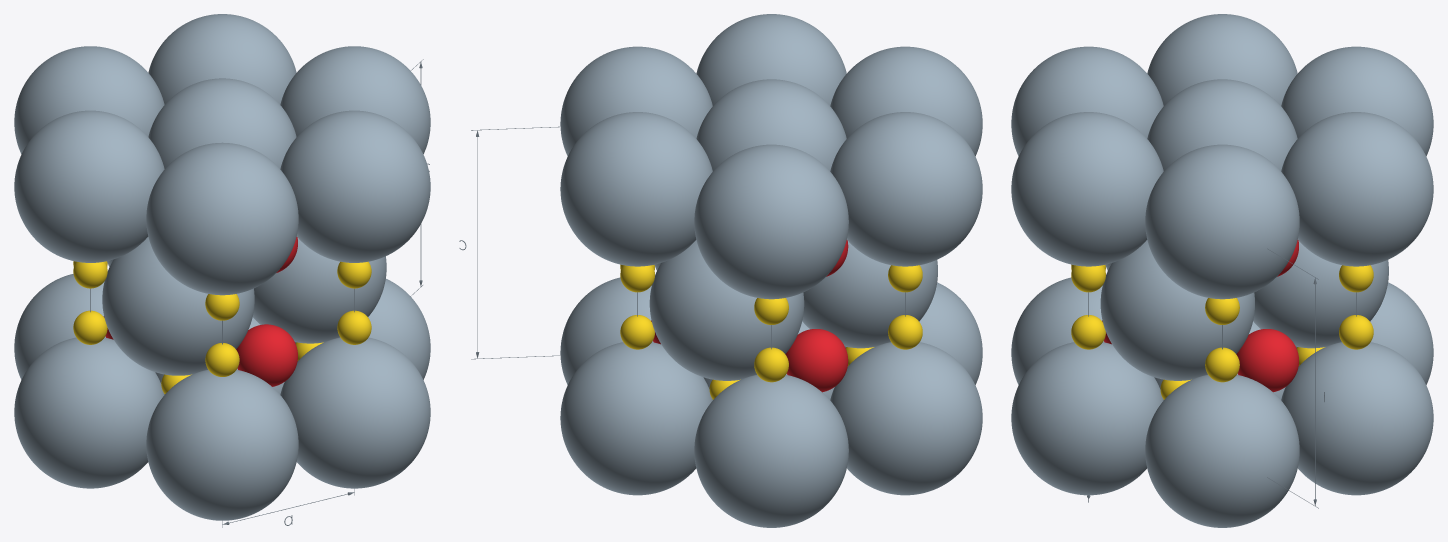
File: hdp-kugelmodell.glb
3 renders of one model, left to right at view 1: azimuth 30°, elevation 25°; view 2: azimuth 150°, elevation 25°; view 3: azimuth 270°, elevation 25°, orthographic.
Parts seen in each view (by area): view 1: atom_ecke_oben_3, atom_ecke_unten_3, atom_ecke_oben_2, atom_ecke_oben_4, atom_ecke_unten_2, atom_ecke_unten_4, atom_mitte_3, atom_ecke_oben_1, atom_ecke_oben_5, atom_ecke_oben_6, atom_basis_oben, atom_mitte_2 (+9 smaller); view 2: atom_ecke_oben_5, atom_ecke_unten_5, atom_ecke_oben_6, atom_ecke_oben_4, atom_ecke_unten_4, atom_ecke_unten_6, atom_mitte_1, atom_ecke_oben_1, atom_ecke_oben_3, atom_basis_oben, atom_ecke_oben_2, atom_mitte_3 (+9 smaller); view 3: atom_ecke_oben_1, atom_ecke_unten_1, atom_ecke_oben_2, atom_ecke_oben_6, atom_ecke_unten_6, atom_ecke_unten_2, atom_mitte_2, atom_ecke_oben_3, atom_ecke_oben_5, atom_basis_oben, atom_ecke_oben_4, atom_mitte_1 (+9 smaller).
Part boxes in pixels (bbox=[...]): atom_ecke_oben_3: bbox=[146, 142, 298, 295]; atom_ecke_unten_3: bbox=[146, 370, 298, 520]; atom_ecke_oben_2: bbox=[280, 110, 430, 262]; atom_ecke_oben_4: bbox=[14, 110, 164, 262]; atom_ecke_unten_2: bbox=[280, 337, 430, 488]; atom_ecke_unten_4: bbox=[14, 337, 164, 488]; atom_mitte_3: bbox=[102, 237, 254, 375]; atom_ecke_oben_1: bbox=[280, 46, 430, 153]; atom_ecke_oben_5: bbox=[14, 46, 164, 153]; atom_ecke_oben_6: bbox=[148, 14, 296, 104]; atom_basis_oben: bbox=[148, 78, 296, 168]; atom_mitte_2: bbox=[252, 238, 386, 343]; atom_ecke_oben_5: bbox=[694, 144, 848, 299]; atom_ecke_unten_5: bbox=[694, 375, 848, 527]; atom_ecke_oben_6: bbox=[560, 112, 712, 266]; atom_ecke_oben_4: bbox=[830, 112, 982, 266]; atom_ecke_unten_4: bbox=[830, 342, 982, 495]; atom_ecke_unten_6: bbox=[560, 342, 712, 495]; atom_mitte_1: bbox=[649, 240, 804, 380]; atom_ecke_oben_1: bbox=[560, 46, 712, 156]; atom_ecke_oben_3: bbox=[830, 46, 982, 156]; atom_basis_oben: bbox=[696, 79, 846, 171]; atom_ecke_oben_2: bbox=[696, 14, 846, 105]; atom_mitte_3: bbox=[802, 241, 937, 348]; atom_ecke_oben_1: bbox=[1145, 144, 1299, 299]; atom_ecke_unten_1: bbox=[1145, 375, 1299, 527]; atom_ecke_oben_2: bbox=[1011, 112, 1163, 266]; atom_ecke_oben_6: bbox=[1281, 112, 1433, 266]; atom_ecke_unten_6: bbox=[1281, 342, 1433, 495]; atom_ecke_unten_2: bbox=[1011, 342, 1163, 495]; atom_mitte_2: bbox=[1100, 240, 1254, 380]; atom_ecke_oben_3: bbox=[1011, 46, 1163, 155]; atom_ecke_oben_5: bbox=[1281, 46, 1433, 155]; atom_basis_oben: bbox=[1147, 79, 1297, 171]; atom_ecke_oben_4: bbox=[1147, 14, 1297, 105]; atom_mitte_1: bbox=[1253, 241, 1388, 348].
Size of the model in its own units: 3.45 by 2.84 by 2.73.
